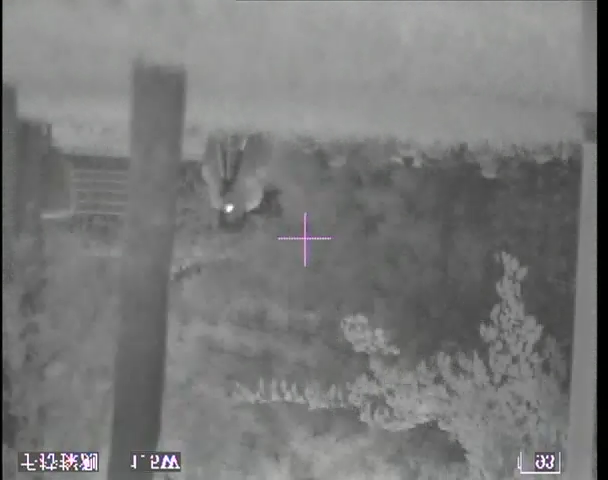my: (222, 202, 236, 216)
